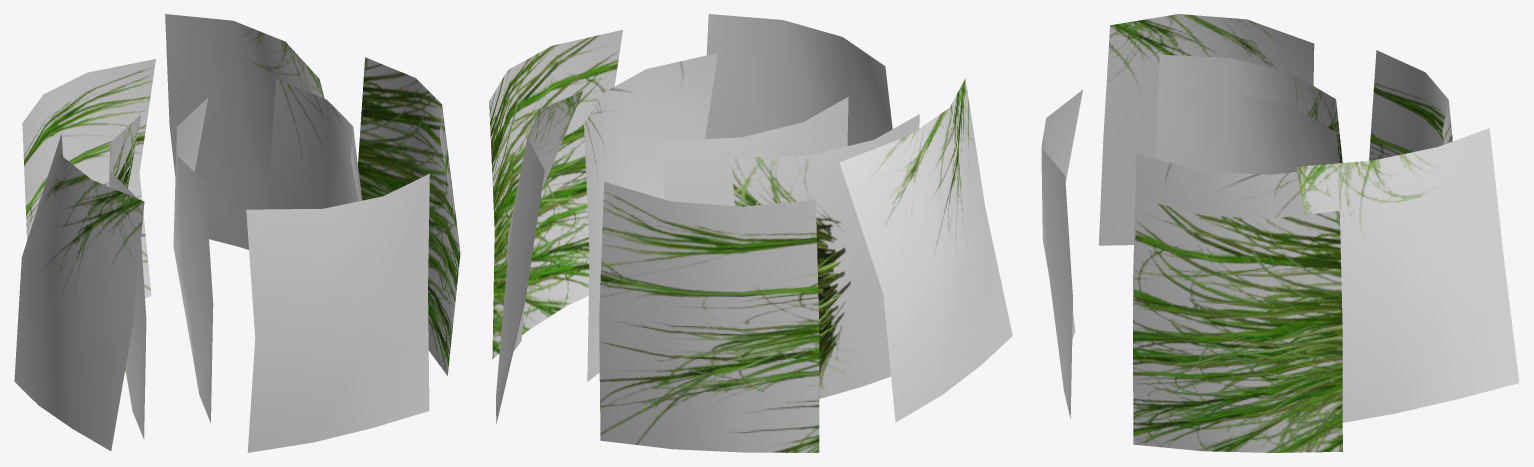
Rendered from grass.FBX.
The picture shows the model from 3 angles, left to right: view 1: azimuth 30°, elevation 25°; view 2: azimuth 150°, elevation 25°; view 3: azimuth 270°, elevation 25°; orthographic projection. The views are drawn at different scales.
Visible parts, largest first — view 1: grass 5, grass 2, grass 7, grass 8, grass, grass 6, grass 4, grass 3; view 2: grass, grass 2, grass 8, grass 5, grass 3, grass 6, grass 4, grass 7; view 3: grass 8, grass 7, grass 2, grass 4, grass 6, grass 5, grass, grass 3.
Part boxes in pixels (x1,y1,x2,y2): grass 5: (246, 173, 429, 452); grass 2: (14, 133, 144, 451); grass 7: (165, 14, 324, 249); grass 8: (358, 57, 460, 375); grass: (22, 59, 155, 298); grass 6: (268, 79, 362, 209); grass 4: (173, 98, 213, 422); grass 3: (109, 114, 146, 438); grass: (599, 182, 819, 452); grass 2: (839, 79, 1012, 422); grass 8: (489, 30, 622, 358); grass 5: (705, 14, 892, 145); grass 3: (731, 114, 919, 398); grass 6: (584, 53, 717, 381); grass 4: (660, 97, 848, 206); grass 7: (496, 91, 582, 423); grass 8: (1133, 198, 1342, 452); grass 7: (1296, 128, 1519, 422); grass 2: (1098, 14, 1314, 245); grass 4: (1156, 87, 1339, 174); grass 6: (1133, 154, 1304, 318); grass 5: (1041, 89, 1082, 418); grass: (1369, 50, 1452, 160); grass 3: (1155, 54, 1342, 163).
Bounding box in the file's own units: 16.1 × 10.21 × 16.66.
